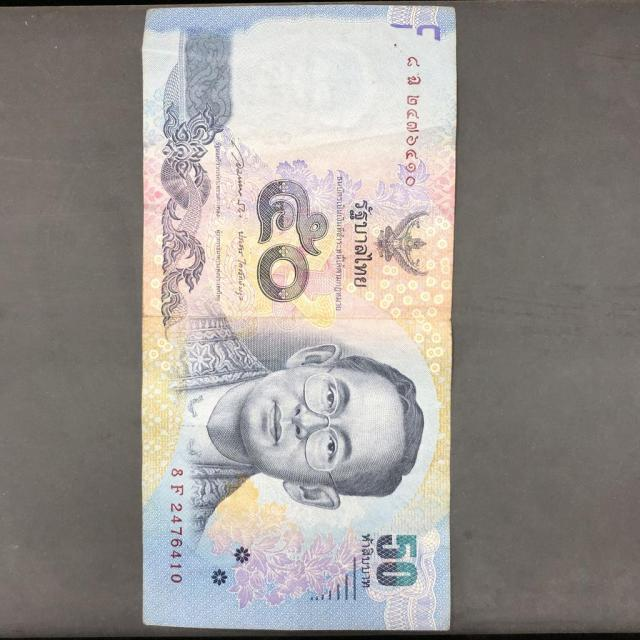THAI50: (142, 5, 456, 629)
